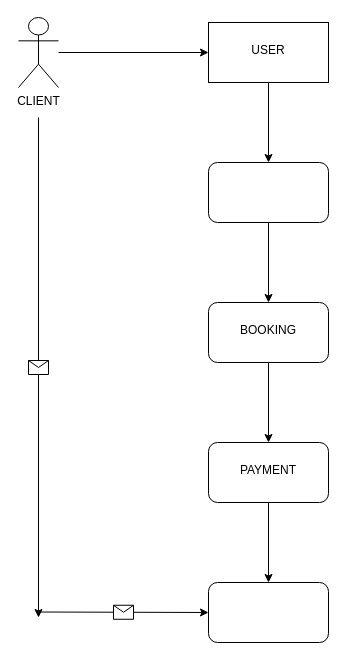
Some shapes in this 346 by 660 pixel diagram are drawn without their labels. The shapes that lost their labels are listed below. From the top down, each one's centre as x and y in pixels, then its label:
the point at 268,192: PROPERTY
the point at 268,612: MESSAGE/REVIEW
